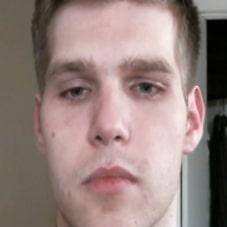drowsy: (45, 54, 182, 202)
